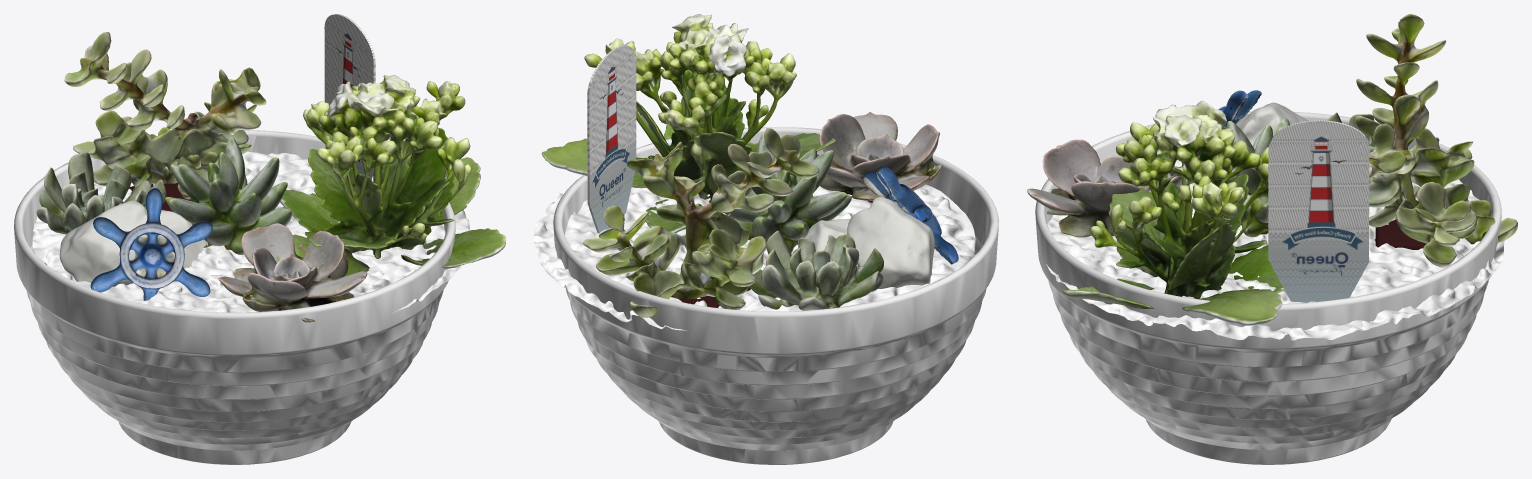
Rendered from Marine_19cm_White_1.glb.
3 views of the same model, side by side, from view 1: azimuth 30°, elevation 25°; view 2: azimuth 150°, elevation 25°; view 3: azimuth 270°, elevation 25° (orthographic). The views are drawn at different scales.
Parts seen in each view (by area): view 1: Mesh (×6), 19cm Plastic Pot, meshes[0], Marine_Label v1 #1 #1; view 2: 19cm Plastic Pot, Mesh (×6), Marine_Label v1 #1 #1, meshes[0]; view 3: 19cm Plastic Pot, Mesh (×5), Marine_Label v1 #1 #1, meshes[0].
Boxes of the visible parts, x1,y1,x2,y2 form: Mesh (×6): (36, 32, 505, 322); 19cm Plastic Pot: (14, 130, 470, 464); meshes[0]: (90, 188, 212, 300); Marine_Label v1 #1 #1: (324, 14, 375, 178); 19cm Plastic Pot: (534, 127, 998, 464); Mesh (×6): (541, 14, 942, 317); Marine_Label v1 #1 #1: (587, 45, 636, 233); meshes[0]: (863, 166, 958, 264); 19cm Plastic Pot: (1035, 111, 1504, 464); Mesh (×5): (1027, 14, 1517, 325); Marine_Label v1 #1 #1: (1268, 120, 1369, 302); meshes[0]: (1178, 90, 1261, 188).
Bounding box in the file's own units: 0.2147 × 0.1677 × 0.2028.
Materials: 9 (8 with a texture image).
